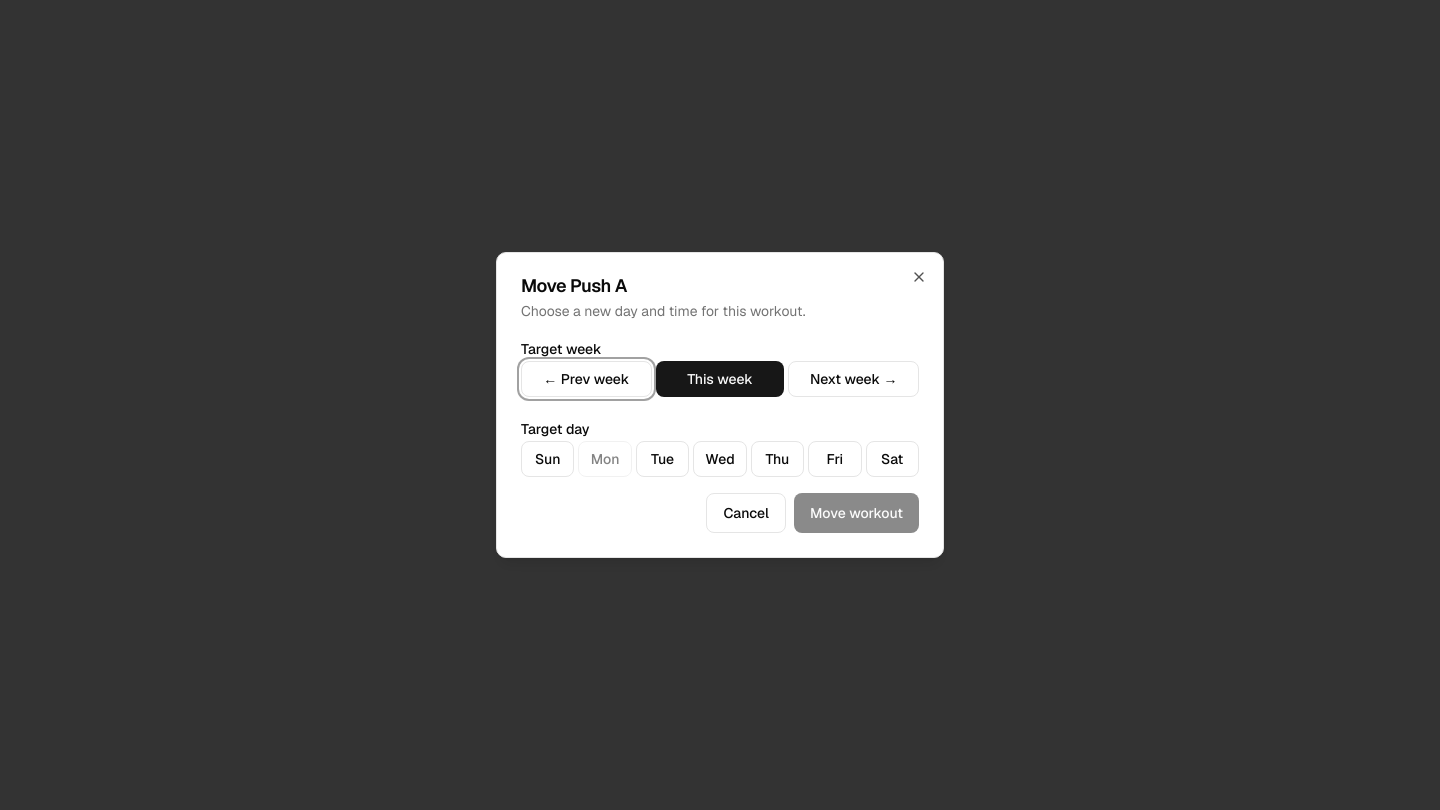
Test: MoveWorkoutModal — characterization (post-T202) › time and duration pre-fill › pre-fills time from sourceTimeSlot
Click the button "Tue" at {"x": 662, "y": 459}, box x1=636 y1=441 x2=689 y2=477
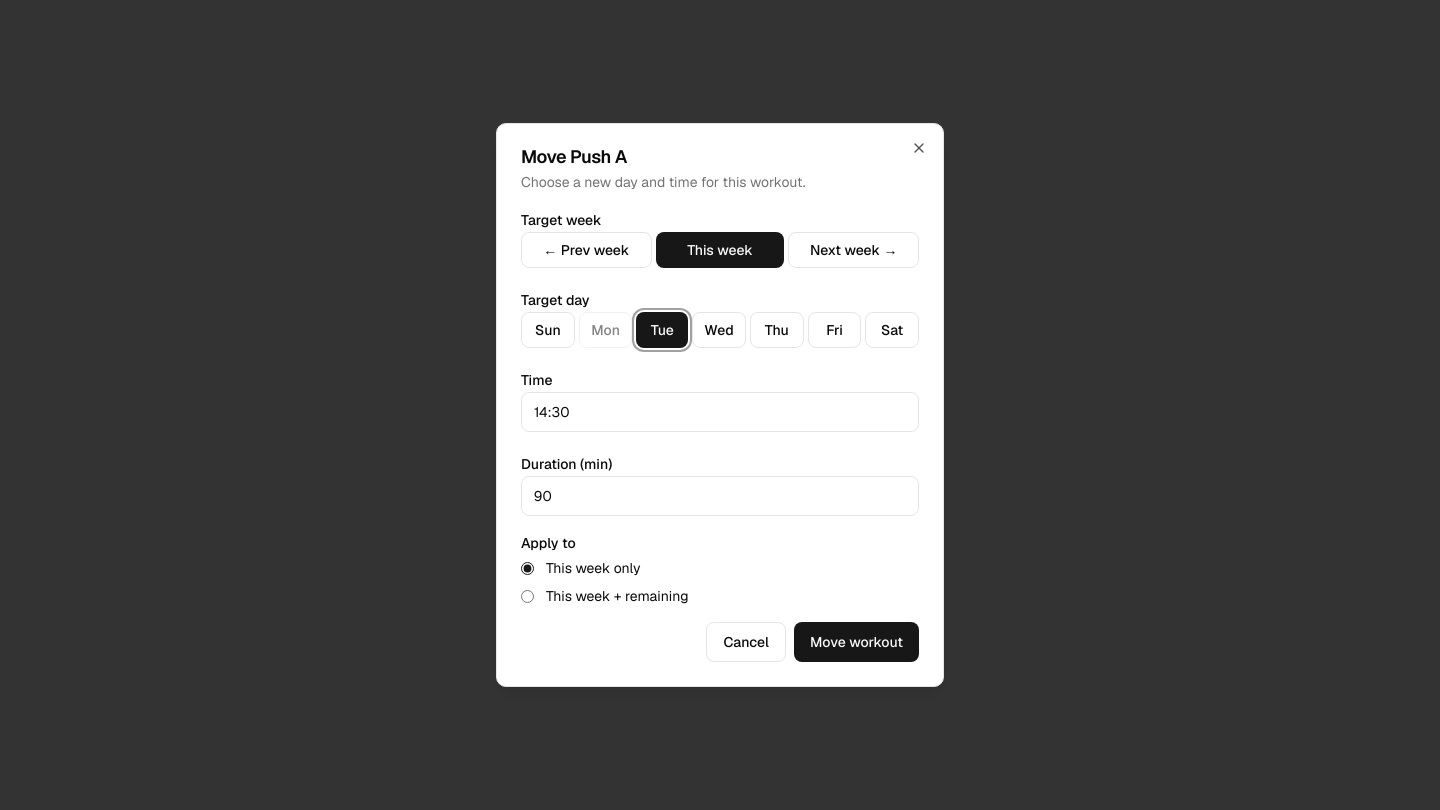
Expected: the field labelled "Time" holds "14:30", x1=521 y1=392 x2=919 y2=432
